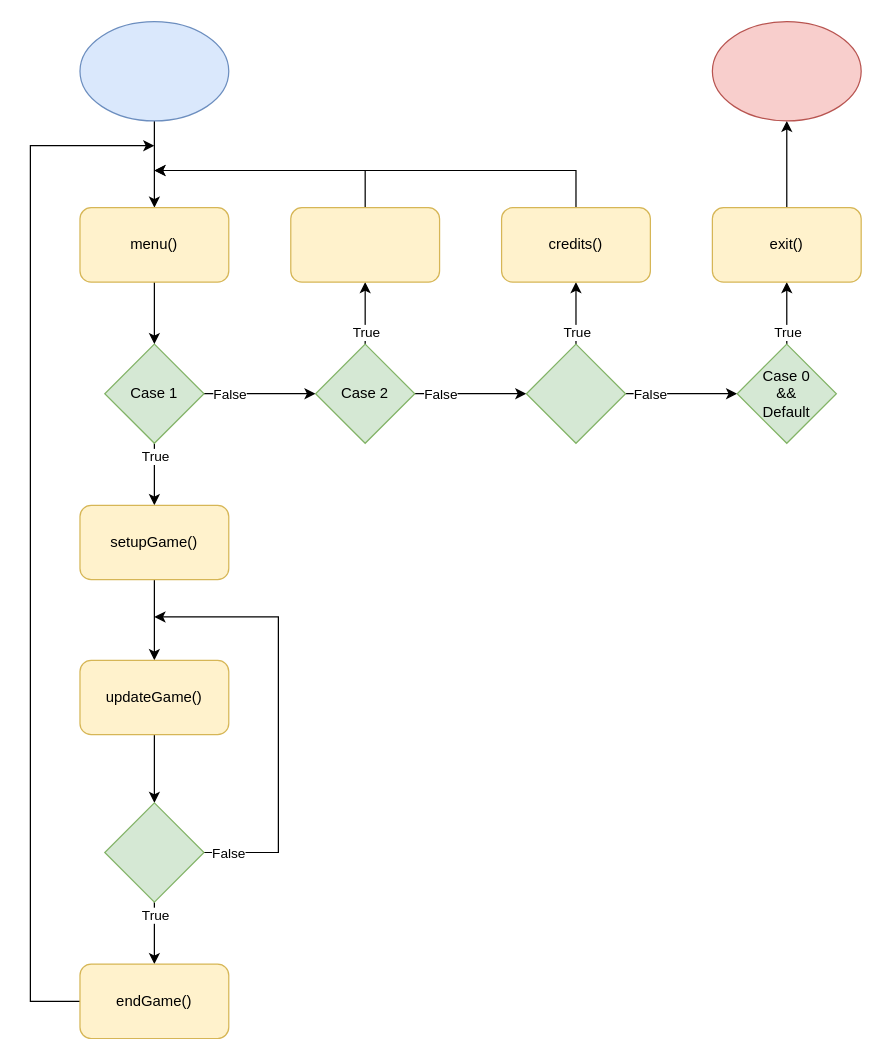
Image size: 883x1060. Some labels were removed from this diagram. Here are the shapes that lost their labels. From the top down, the centre of each, then its label:
At [154,70]: "Start".
At [786,70]: "End".
At [365,244]: "instructions()".
At [575,393]: "Case 3".
At [154,852]: "gameOver".
